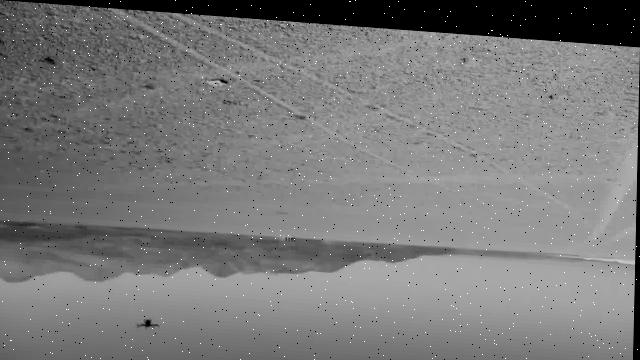drone: (136, 313, 165, 331)
